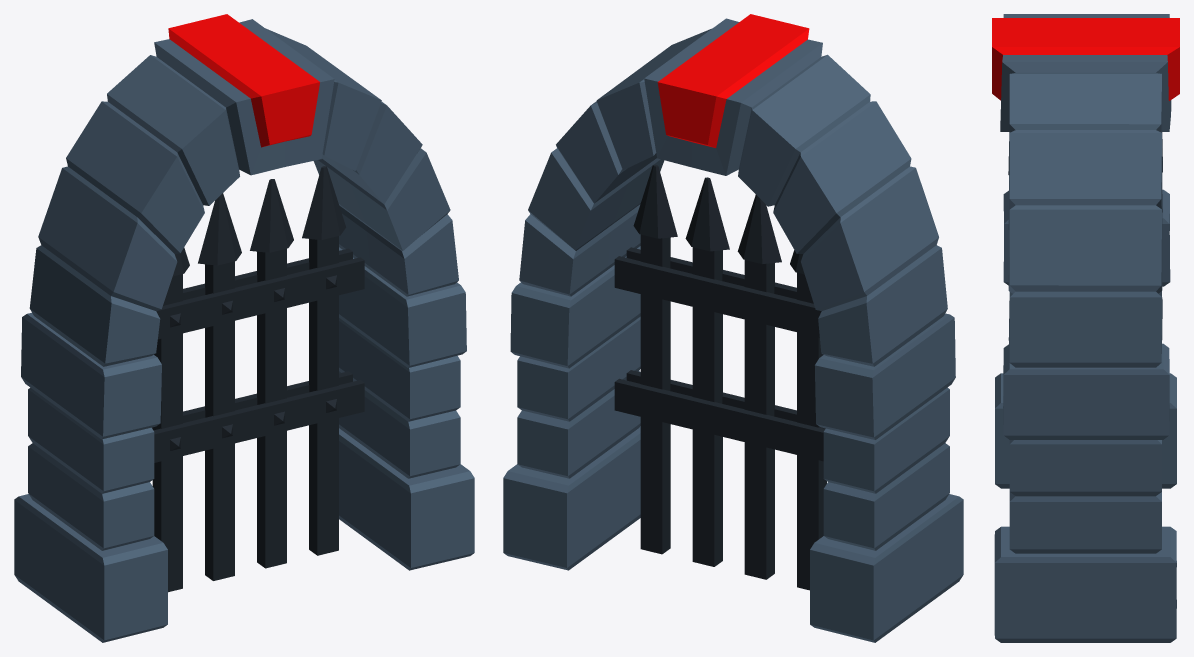
File: Gate.fbx
3 renders of one model, left to right at view 1: azimuth 30°, elevation 25°; view 2: azimuth 150°, elevation 25°; view 3: azimuth 270°, elevation 25°, orthographic.
Visible parts, largest first — view 1: Stone_Border, Metal_Bar001, Gem; view 2: Stone_Border, Metal_Bar001, Gem; view 3: Stone_Border, Gem.
Boxes of the visible parts, bbox=[...] form: Stone_Border: bbox=[14, 19, 474, 642]; Metal_Bar001: bbox=[152, 166, 364, 592]; Gem: bbox=[168, 14, 319, 147]; Stone_Border: bbox=[503, 18, 963, 642]; Metal_Bar001: bbox=[614, 164, 826, 590]; Gem: bbox=[657, 14, 809, 147]; Stone_Border: bbox=[994, 14, 1176, 642]; Gem: bbox=[992, 18, 1179, 100].
Bounding box in the file's own units: 167 × 221 × 72.42.
